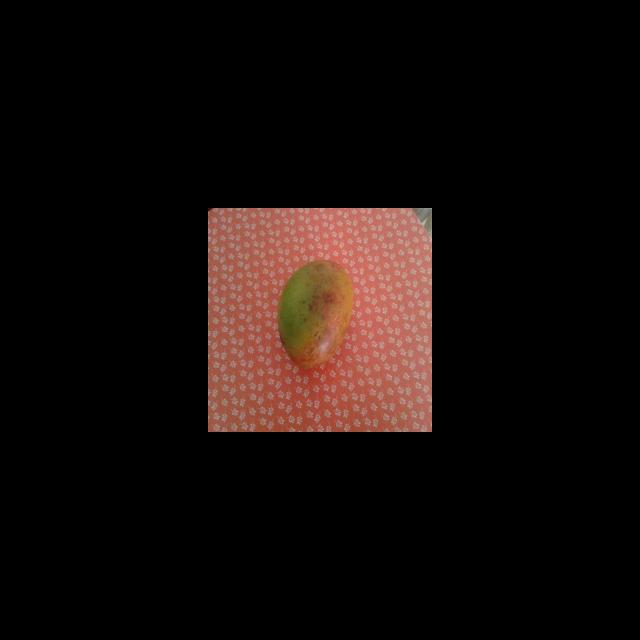Mango: (277, 259, 353, 369)
